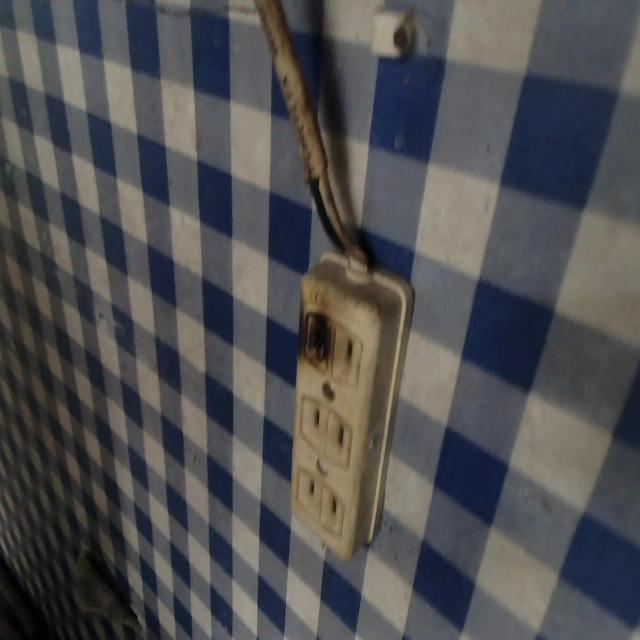-: (293, 297, 337, 380)
